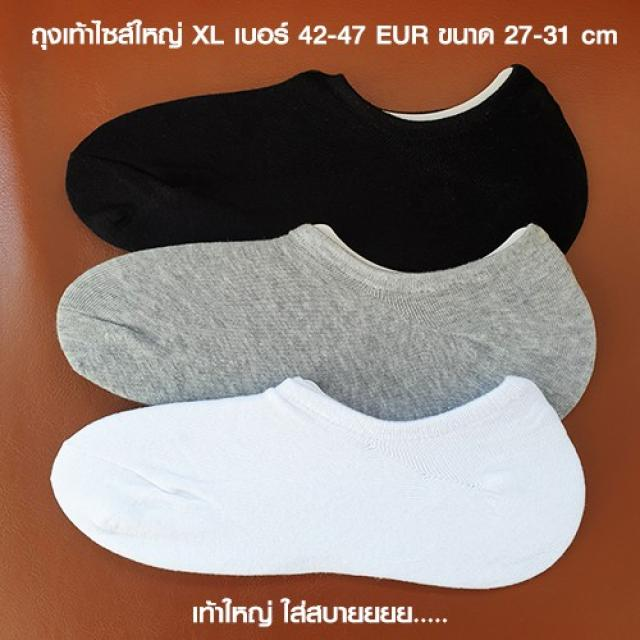sock: (50, 372, 586, 589), (55, 220, 597, 421), (64, 61, 589, 266)
